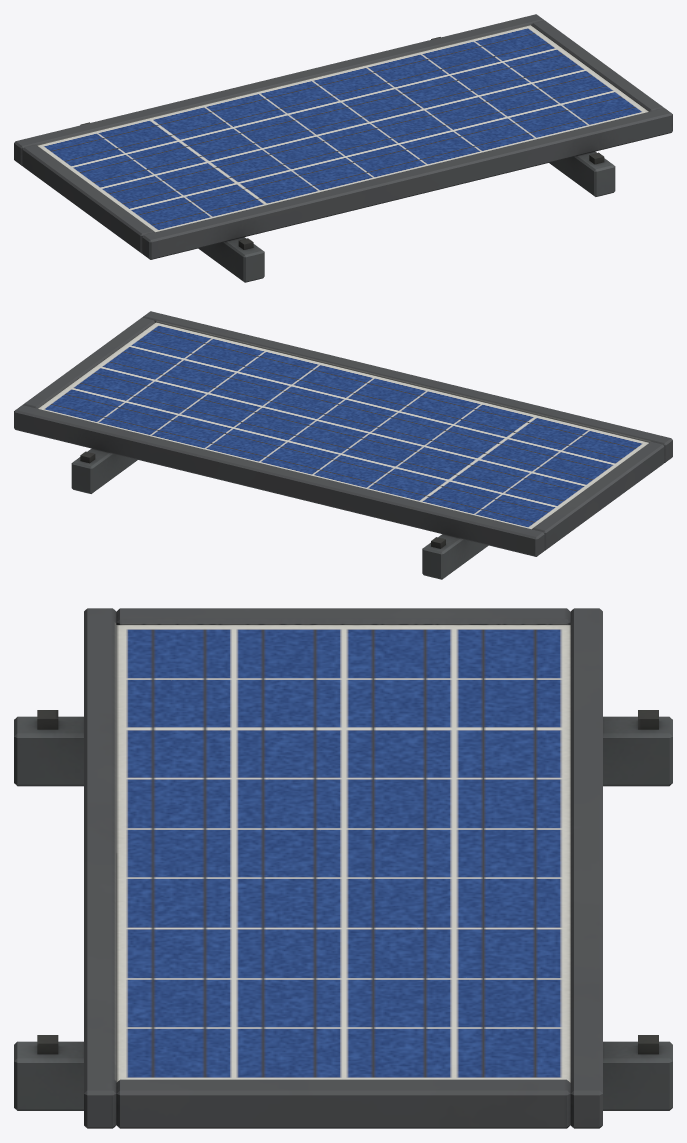
Rendered from RenewableEnergy_SolarWall.fbx.
The picture shows the model from 3 angles, top to bottom: view 1: azimuth 30°, elevation 25°; view 2: azimuth 150°, elevation 25°; view 3: azimuth 270°, elevation 25°; orthographic projection. The views are drawn at different scales.
Visible parts, largest first — view 1: SolarWall; view 2: SolarWall; view 3: SolarWall.
Part boxes in pixels (left/top/right/bottom): SolarWall: left=14, top=14, right=672, bottom=282; SolarWall: left=14, top=311, right=672, bottom=579; SolarWall: left=14, top=608, right=672, bottom=1128.
Bounding box in the file's own units: 0.986 × 0.086 × 0.566.
